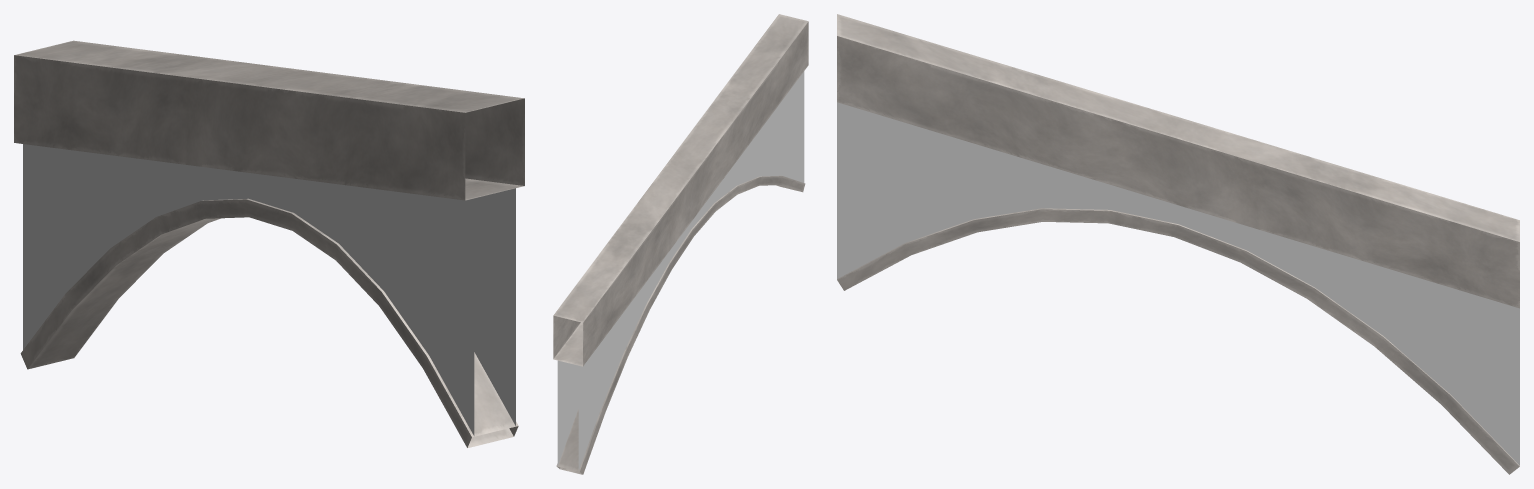
File: Buttress_B.fbx
The picture shows the model from 3 angles, left to right: view 1: azimuth 30°, elevation 25°; view 2: azimuth 150°, elevation 25°; view 3: azimuth 270°, elevation 25°; orthographic projection. The views are drawn at different scales.
Parts seen in each view (by area): view 1: Buttress_B; view 2: Buttress_B; view 3: Buttress_B.
Boxes of the visible parts, x1,y1,x2,y2 form: Buttress_B: [14, 40, 524, 448]; Buttress_B: [553, 14, 808, 474]; Buttress_B: [837, 14, 1519, 474].
Bounding box in the file's own units: 0.3893 × 5.12 × 3.65.
